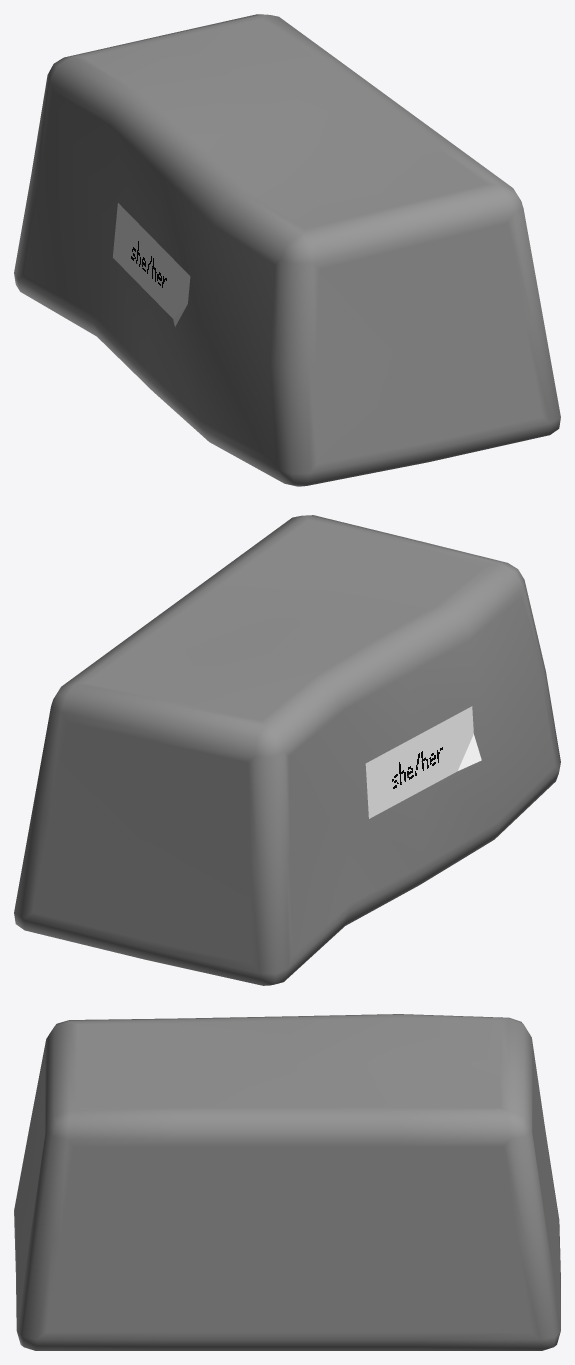
File: aluminumingot.glb
3 views of the same model, one above another, from view 1: azimuth 30°, elevation 25°; view 2: azimuth 150°, elevation 25°; view 3: azimuth 270°, elevation 25° (orthographic). The views are drawn at different scales.
Parts seen in each view (by area): view 1: Cube; view 2: Cube; view 3: Cube.
Part boxes in pixels (box(x1,y1,x2,y2)): Cube: box(14, 14, 560, 486); Cube: box(14, 515, 560, 985); Cube: box(14, 1014, 560, 1350).
Size of the model in its own units: 1.27 by 1.04 by 2.18.
2 materials, 1 textured.
